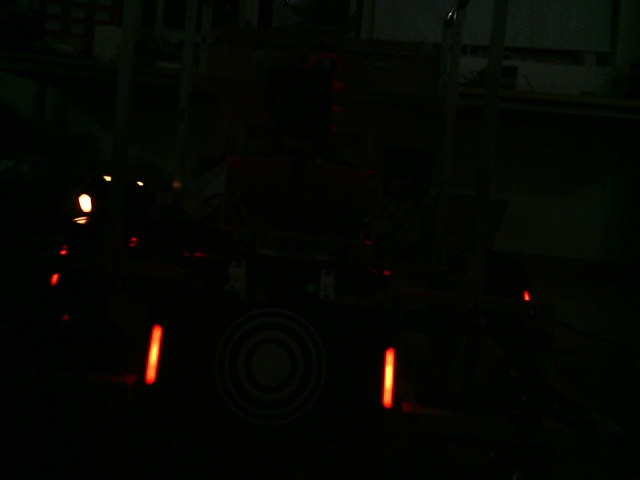lamp: (143, 321, 164, 386), (382, 345, 394, 412)
